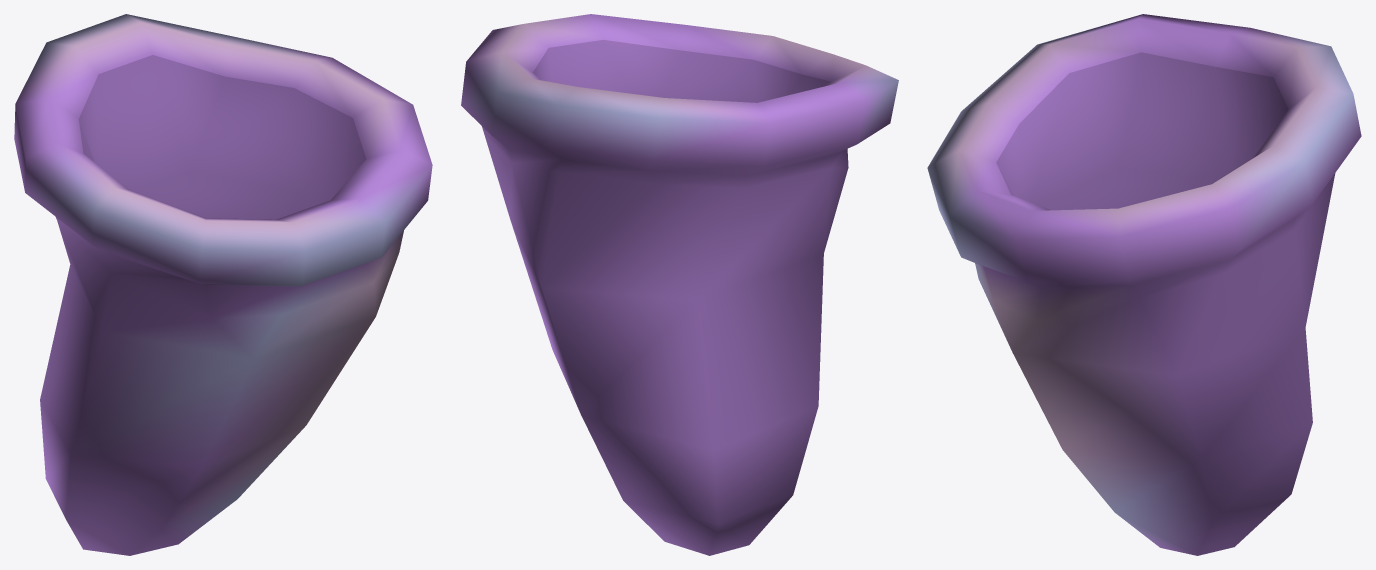
File: Maze_CoralPurple_B.glb
The picture shows the model from 3 angles, left to right: view 1: azimuth 30°, elevation 25°; view 2: azimuth 150°, elevation 25°; view 3: azimuth 270°, elevation 25°; orthographic projection. The views are drawn at different scales.
Visible parts, largest first — view 1: Maze_CoralPurple_B; view 2: Maze_CoralPurple_B; view 3: Maze_CoralPurple_B.
Boxes of the visible parts, left/top/right/bottom form: Maze_CoralPurple_B: left=14, top=14, right=432, bottom=555; Maze_CoralPurple_B: left=461, top=14, right=898, bottom=555; Maze_CoralPurple_B: left=927, top=14, right=1361, bottom=555.
Bounding box in the file's own units: 0.4236 × 0.5072 × 0.4049.
